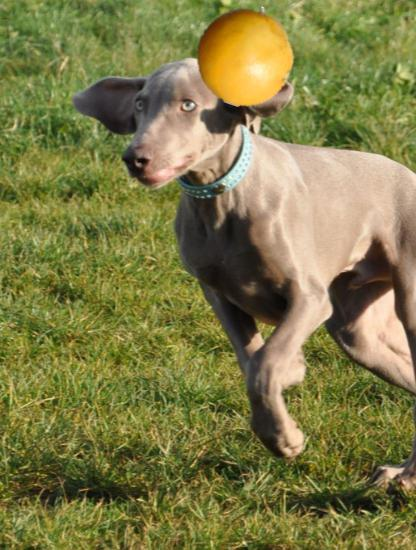Grapefruit: (194, 4, 297, 107)
